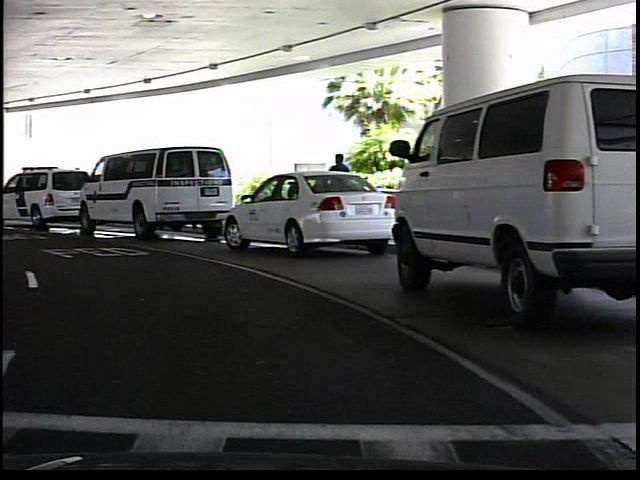person: (326, 149, 356, 233)
